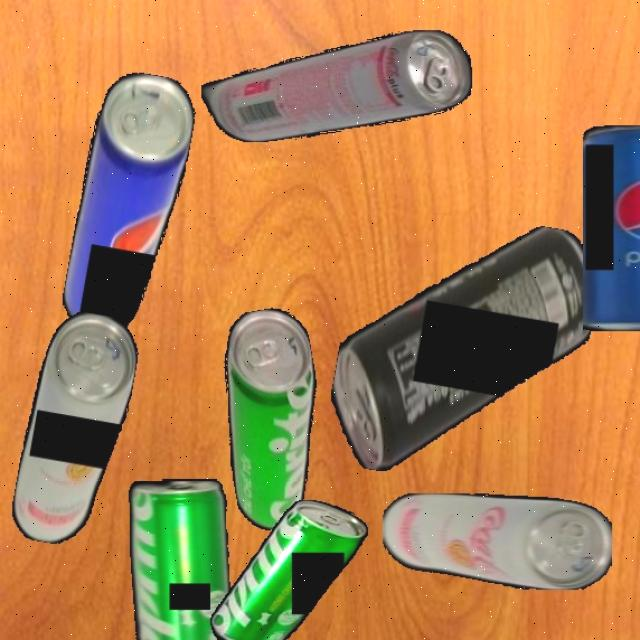debris: (320, 196, 606, 502), (58, 67, 200, 344), (8, 306, 143, 552), (206, 303, 340, 534), (200, 29, 472, 142), (210, 499, 368, 640), (382, 494, 612, 590), (128, 479, 232, 640), (582, 126, 640, 332)
